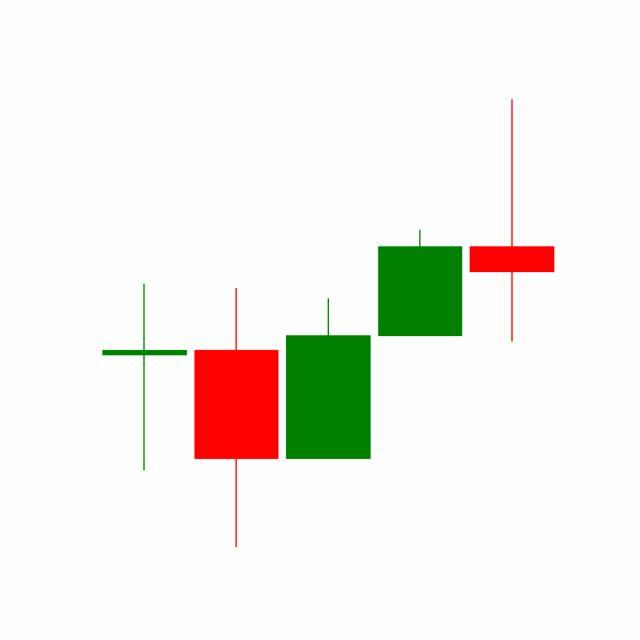Spinning Top: (466, 97, 559, 346)
